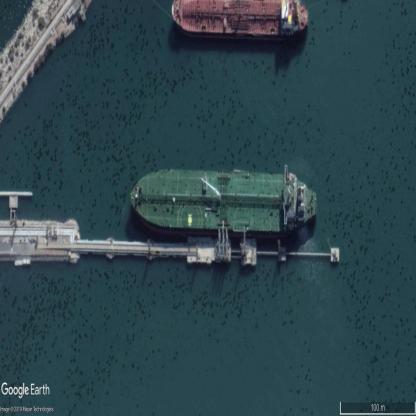ship: (130, 167, 318, 245), (170, 0, 308, 42)
